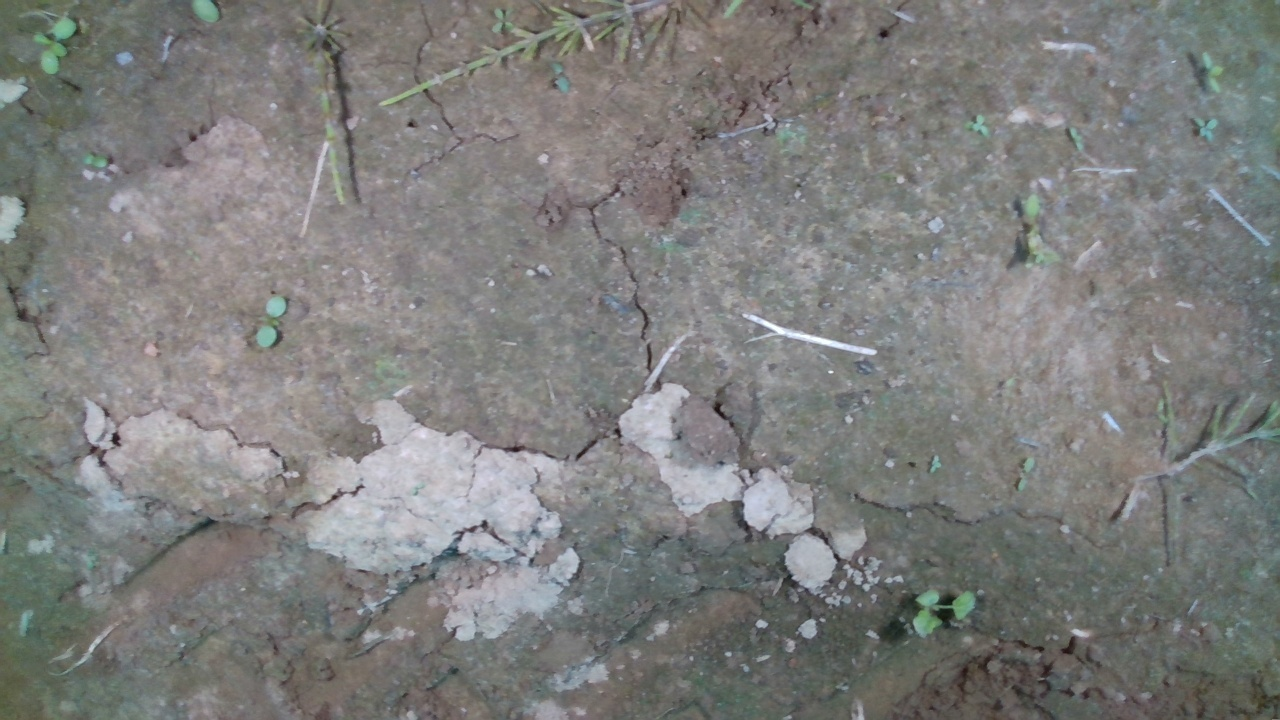weed: (911, 587, 977, 639), (28, 13, 77, 75), (254, 294, 288, 350), (1202, 48, 1223, 98), (1190, 114, 1219, 143), (1017, 456, 1035, 491), (1066, 125, 1086, 154), (970, 111, 991, 138), (81, 152, 110, 170), (926, 452, 941, 474)
